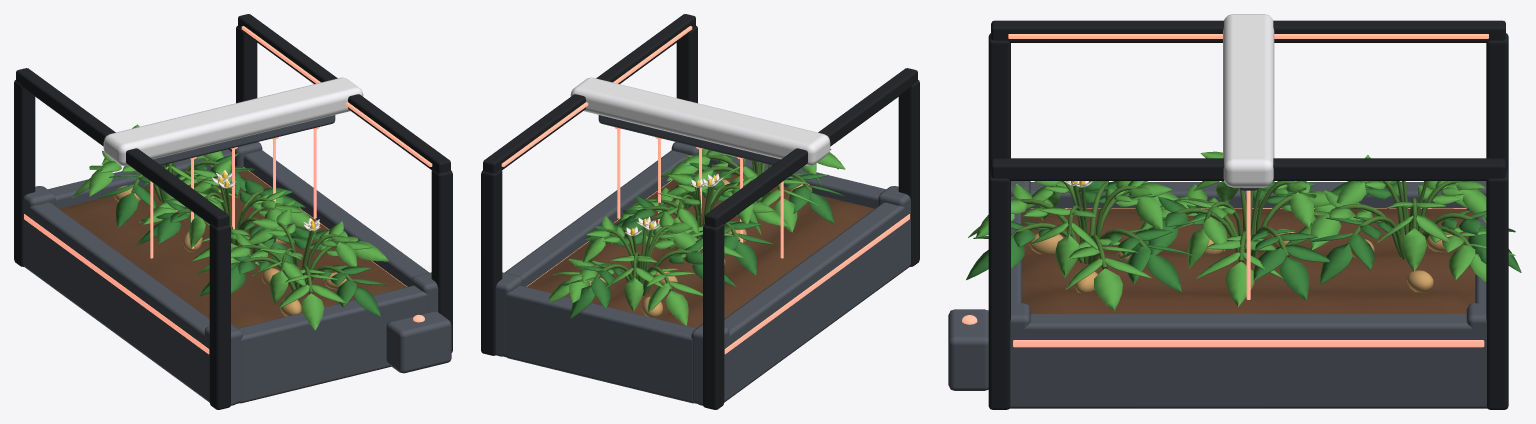
File: AutoBedT3.fbx
3 views of the same model, side by side, from view 1: azimuth 30°, elevation 25°; view 2: azimuth 150°, elevation 25°; view 3: azimuth 270°, elevation 25° (orthographic). The views are drawn at different scales.
Visible parts, largest first — view 1: Body__MetalDark.010, Body__Black.005, Body__Soil.005, Laser__White@slide_z_-2.3_3.14#0,0,0, Bush/Plant0__Leaf@sway_x_2.5_3.14_0.15#0.059,1.03,1.867, Bush/Plant1__Leaf@sway_x_2.5_3.14_0.45#-0.025,1.03,0, Bush/Plant0__LeafDark@sway_x_2.5_3.14_0.15#0.059,1.03,1.867, Body__NeonRed.001, Bush/Plant1__LeafDark@sway_x_2.5_3.14_0.45#-0.025,1.03,0, Bush/Plant0__Stem@sway_x_2.5_3.14_0.15#0.059,1.03,1.867, Bush/Plant2__LeafDark@sway_x_2.5_3.14_0.75#-0.061,1.03,-1.86, Laser__MetalDark@slide_z_-2.3_3.14#0,0,0 (+5 smaller); view 2: Body__MetalDark.010, Body__Black.005, Body__Soil.005, Laser__White@slide_z_-2.3_3.14#0,0,0, Bush/Plant2__Leaf@sway_x_2.5_3.14_0.75#-0.061,1.03,-1.867, Bush/Plant1__Leaf@sway_x_2.5_3.14_0.45#-0.025,1.03,0, Bush/Plant2__LeafDark@sway_x_2.5_3.14_0.75#-0.061,1.03,-1.86, Bush/Plant0__Leaf@sway_x_2.5_3.14_0.15#0.059,1.03,1.867, Body__NeonRed.001, Bush/Plant1__LeafDark@sway_x_2.5_3.14_0.45#-0.025,1.03,0, Bush/Plant2__Stem@sway_x_2.5_3.14_0.75#-0.061,1.03,-1.867, Laser__MetalDark@slide_z_-2.3_3.14#0,0,0 (+5 smaller); view 3: Body__MetalDark.010, Body__Black.005, Body__Soil.005, Laser__White@slide_z_-2.3_3.14#0,0,0, Bush/Plant0__Leaf@sway_x_2.5_3.14_0.15#0.059,1.03,1.867, Bush/Plant2__Leaf@sway_x_2.5_3.14_0.75#-0.061,1.03,-1.867, Body__NeonRed.001, Bush/Plant1__Leaf@sway_x_2.5_3.14_0.45#-0.025,1.03,0, Bush/Plant1__LeafDark@sway_x_2.5_3.14_0.45#-0.025,1.03,0, Bush/Plant0__LeafDark@sway_x_2.5_3.14_0.15#0.059,1.03,1.867, Bush/Plant2__LeafDark@sway_x_2.5_3.14_0.75#-0.061,1.03,-1.86, Bush/Plant0__Stem@sway_x_2.5_3.14_0.15#0.059,1.03,1.867 (+4 smaller).
Boxes of the visible parts, left/top/right/bottom form: Body__MetalDark.010: left=23, top=142, right=451, bottom=405; Body__Black.005: left=14, top=14, right=452, bottom=409; Body__Soil.005: left=59, top=166, right=406, bottom=328; Laser__White@slide_z_-2.3_3.14#0,0,0: left=103, top=77, right=363, bottom=165; Bush/Plant0__Leaf@sway_x_2.5_3.14_0.15#0.059,1.03,1.867: left=197, top=209, right=388, bottom=330; Bush/Plant1__Leaf@sway_x_2.5_3.14_0.45#-0.025,1.03,0: left=139, top=160, right=319, bottom=265; Bush/Plant0__LeafDark@sway_x_2.5_3.14_0.15#0.059,1.03,1.867: left=198, top=227, right=385, bottom=317; Body__NeonRed.001: left=24, top=26, right=432, bottom=354; Bush/Plant1__LeafDark@sway_x_2.5_3.14_0.45#-0.025,1.03,0: left=136, top=179, right=305, bottom=263; Bush/Plant0__Stem@sway_x_2.5_3.14_0.15#0.059,1.03,1.867: left=234, top=222, right=353, bottom=293; Bush/Plant2__LeafDark@sway_x_2.5_3.14_0.75#-0.061,1.03,-1.86: left=97, top=153, right=261, bottom=228; Laser__MetalDark@slide_z_-2.3_3.14#0,0,0: left=153, top=115, right=335, bottom=165; Body__MetalDark.010: left=495, top=142, right=910, bottom=405; Body__Black.005: left=481, top=14, right=919, bottom=409; Body__Soil.005: left=527, top=170, right=874, bottom=328; Laser__White@slide_z_-2.3_3.14#0,0,0: left=570, top=77, right=830, bottom=165; Bush/Plant2__Leaf@sway_x_2.5_3.14_0.75#-0.061,1.03,-1.867: left=549, top=211, right=702, bottom=325; Bush/Plant1__Leaf@sway_x_2.5_3.14_0.45#-0.025,1.03,0: left=618, top=170, right=787, bottom=258; Bush/Plant2__LeafDark@sway_x_2.5_3.14_0.75#-0.061,1.03,-1.86: left=561, top=218, right=735, bottom=318; Bush/Plant0__Leaf@sway_x_2.5_3.14_0.15#0.059,1.03,1.867: left=657, top=148, right=845, bottom=232; Body__NeonRed.001: left=501, top=26, right=909, bottom=354; Bush/Plant1__LeafDark@sway_x_2.5_3.14_0.45#-0.025,1.03,0: left=616, top=176, right=773, bottom=275; Bush/Plant2__Stem@sway_x_2.5_3.14_0.75#-0.061,1.03,-1.867: left=578, top=225, right=692, bottom=295; Laser__MetalDark@slide_z_-2.3_3.14#0,0,0: left=598, top=115, right=780, bottom=165; Body__MetalDark.010: left=948, top=181, right=1487, bottom=408; Body__Black.005: left=988, top=20, right=1508, bottom=409; Body__Soil.005: left=1022, top=208, right=1475, bottom=313; Laser__White@slide_z_-2.3_3.14#0,0,0: left=1223, top=14, right=1274, bottom=187; Bush/Plant0__Leaf@sway_x_2.5_3.14_0.15#0.059,1.03,1.867: left=968, top=181, right=1179, bottom=311; Bush/Plant2__Leaf@sway_x_2.5_3.14_0.75#-0.061,1.03,-1.867: left=1286, top=155, right=1515, bottom=282; Body__NeonRed.001: left=1008, top=34, right=1488, bottom=347; Bush/Plant1__Leaf@sway_x_2.5_3.14_0.45#-0.025,1.03,0: left=1140, top=151, right=1358, bottom=307; Bush/Plant1__LeafDark@sway_x_2.5_3.14_0.45#-0.025,1.03,0: left=1120, top=181, right=1329, bottom=300; Bush/Plant0__LeafDark@sway_x_2.5_3.14_0.15#0.059,1.03,1.867: left=966, top=181, right=1192, bottom=292; Bush/Plant2__LeafDark@sway_x_2.5_3.14_0.75#-0.061,1.03,-1.86: left=1306, top=181, right=1521, bottom=284; Bush/Plant0__Stem@sway_x_2.5_3.14_0.15#0.059,1.03,1.867: left=1011, top=181, right=1151, bottom=269.
Bounding box in the file's own units: 420 × 373 × 668.
